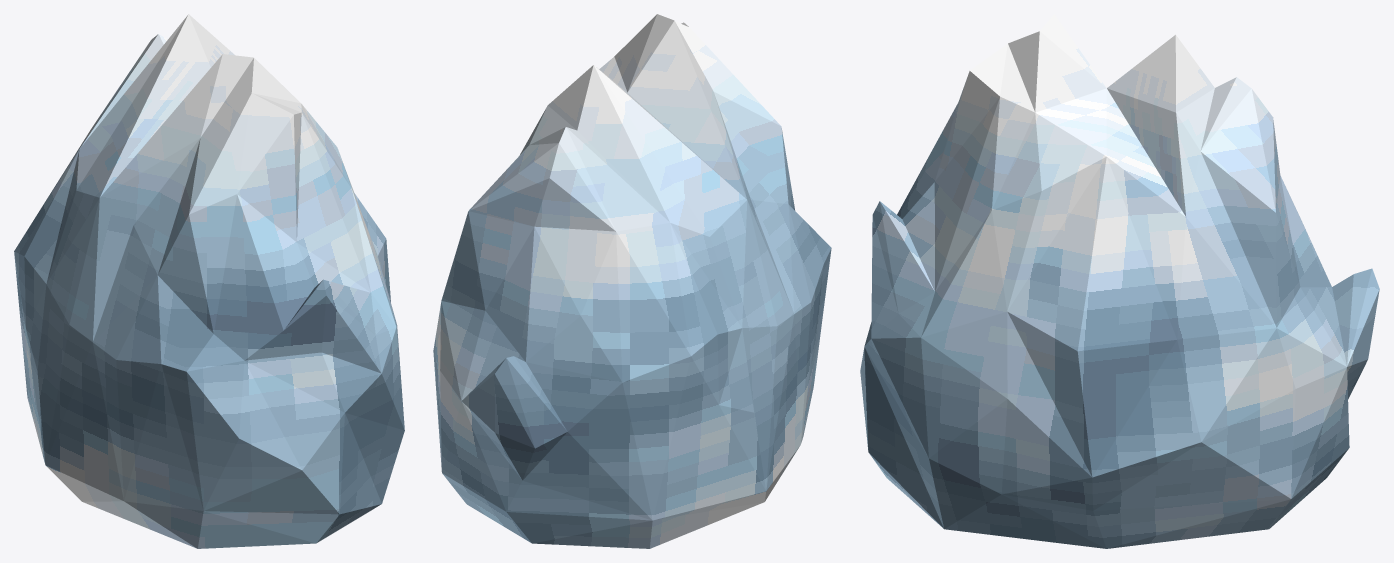
File: ItmFreezer.obj
The picture shows the model from 3 angles, left to right: view 1: azimuth 30°, elevation 25°; view 2: azimuth 150°, elevation 25°; view 3: azimuth 270°, elevation 25°; orthographic projection. The views are drawn at different scales.
Parts seen in each view (by area): view 1: polygon0; view 2: polygon0; view 3: polygon0.
Part boxes in pixels (bbox=[...]): polygon0: bbox=[14, 14, 404, 548]; polygon0: bbox=[433, 14, 831, 548]; polygon0: bbox=[860, 14, 1379, 548].
Bounding box in the file's own units: 7.11 × 9.18 × 9.38.
3 materials, 1 textured.
